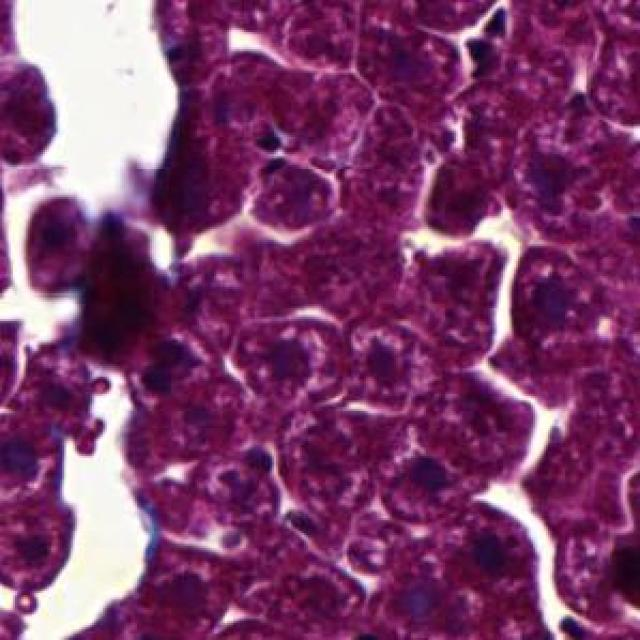inflammation: (450, 0, 524, 90)
